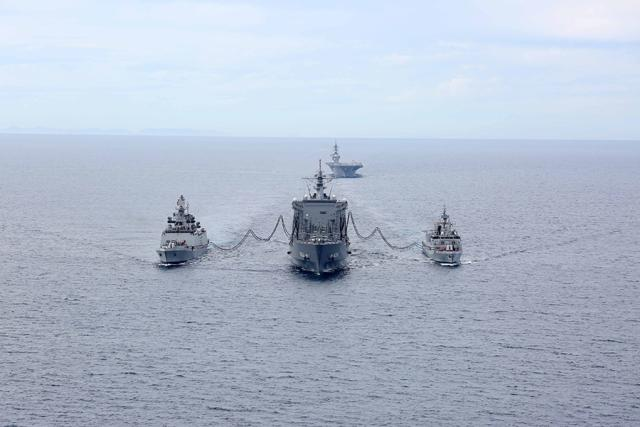warship: (282, 158, 360, 277), (151, 196, 213, 265), (422, 209, 464, 267), (326, 140, 366, 179)
